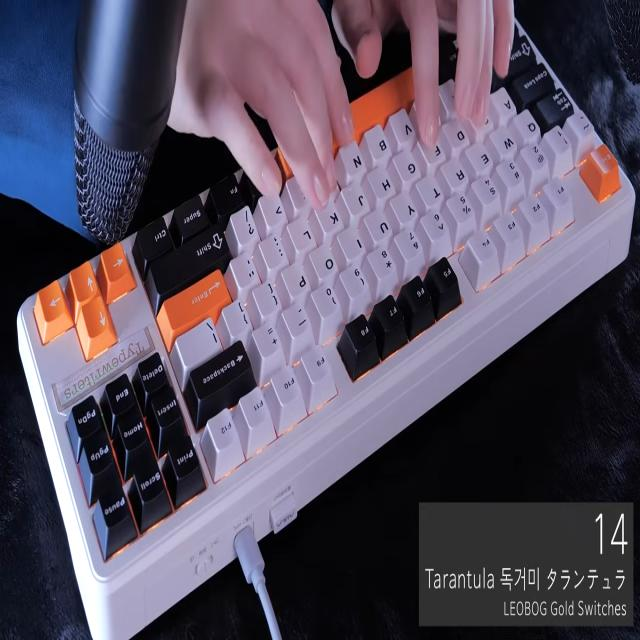keyboard-with-hands: (17, 8, 638, 586)
